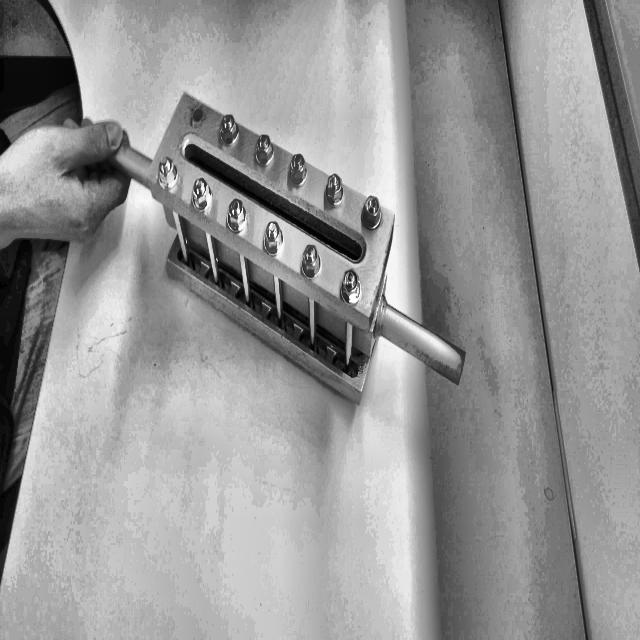ShuiWeiQi_11: (117, 50, 470, 426)
